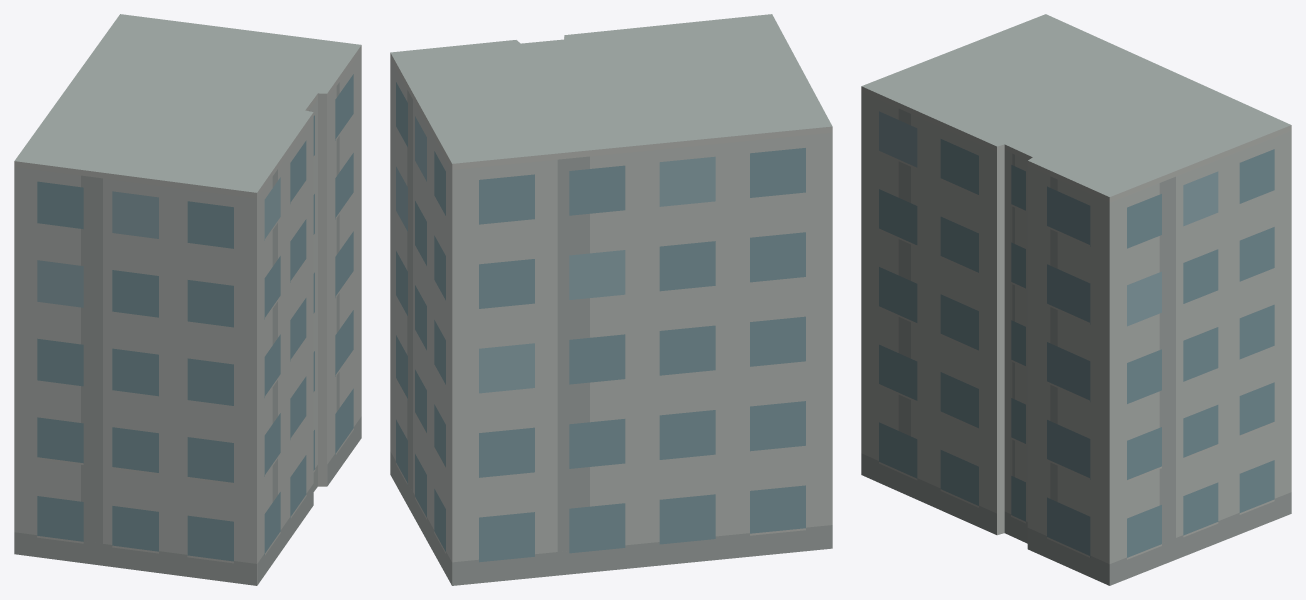
The model's file is survey-upis-32948422.glb.
3 views of the same model, side by side, from view 1: azimuth 30°, elevation 25°; view 2: azimuth 150°, elevation 25°; view 3: azimuth 270°, elevation 25° (orthographic). The views are drawn at different scales.
Parts seen in each view (by area): view 1: survey-upis-32948422.tmp; view 2: survey-upis-32948422.tmp; view 3: survey-upis-32948422.tmp.
Part boxes in pixels (x1,y1,x2,y2): survey-upis-32948422.tmp: [14, 14, 361, 585]; survey-upis-32948422.tmp: [390, 14, 832, 585]; survey-upis-32948422.tmp: [861, 14, 1291, 585].
Bounding box in the file's own units: 16.99 × 16.8 × 16.86.
